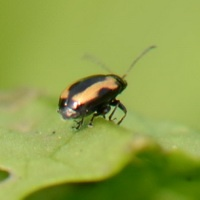insect: (58, 45, 155, 128)
